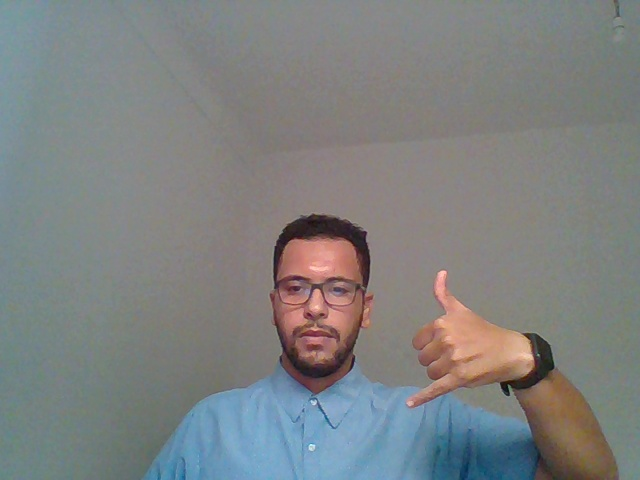callme: (374, 257, 563, 439)
